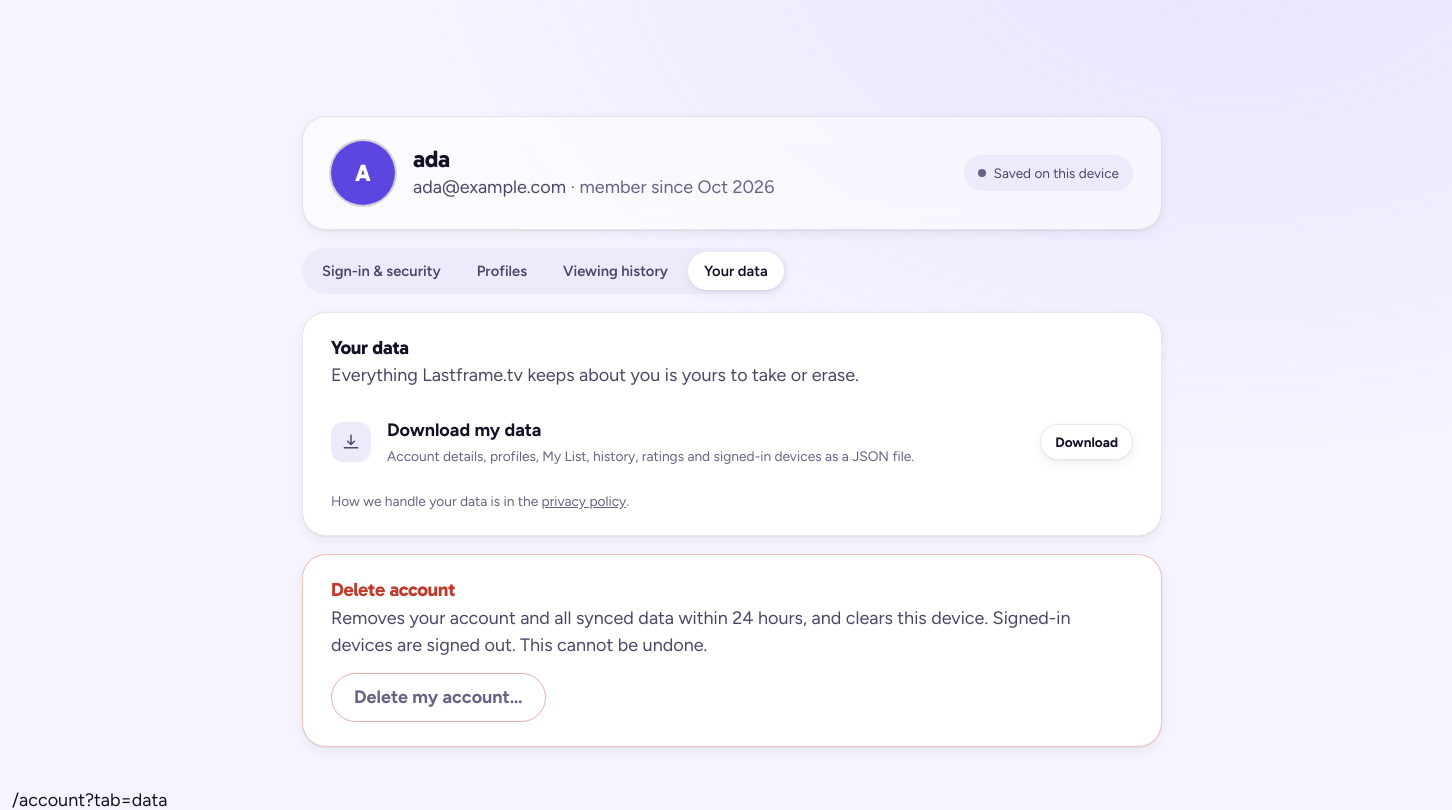
Test: AccountPage: signed in › deletes the account after confirmation
Click the button "Delete my account…" at (438, 697), box top-left (331, 673), bottom-right (546, 722)
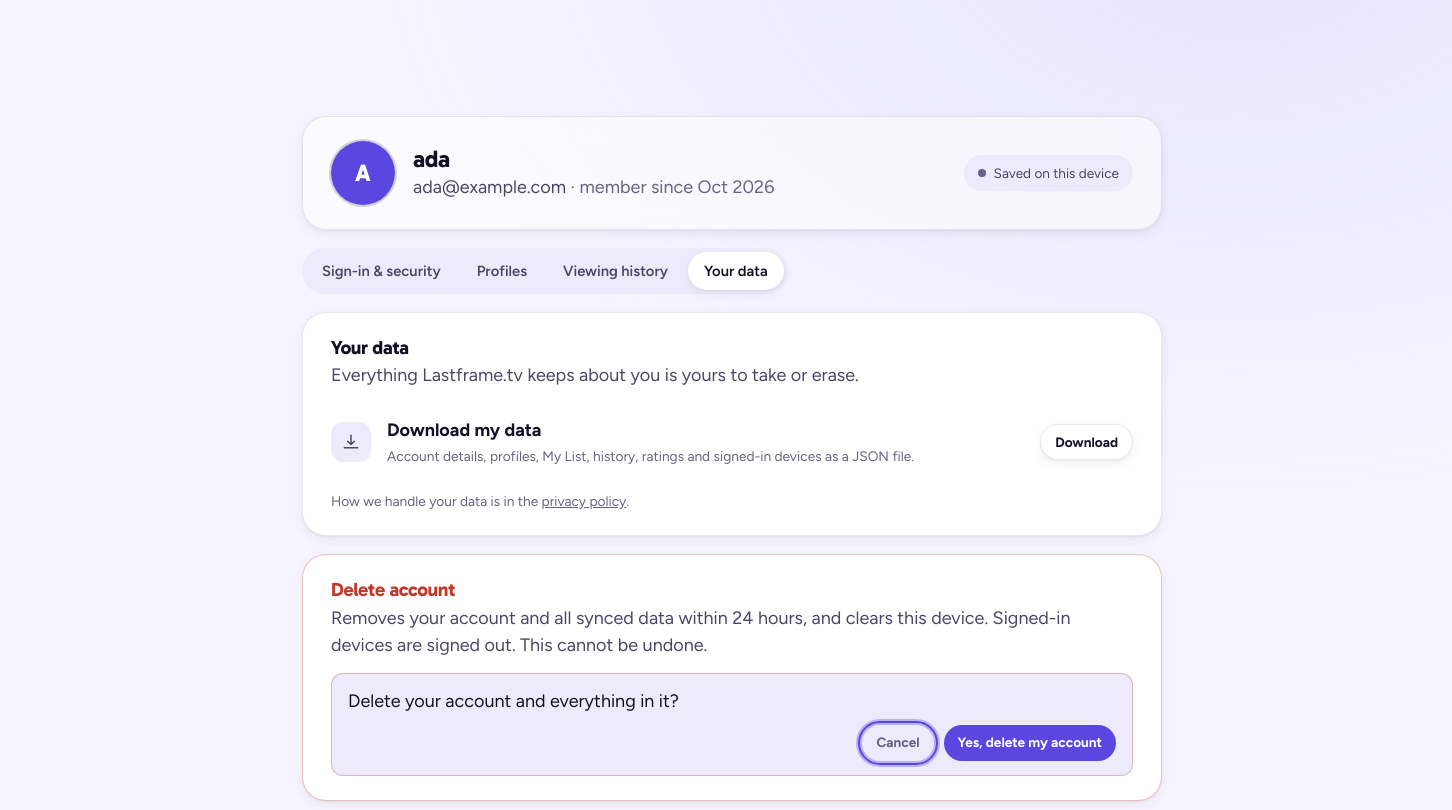
Expected: the heading "Delete account" is shown, top-left (331, 578), bottom-right (455, 602)
Expected: the text "within 24 hours" is shown, top-left (331, 607), bottom-right (1070, 656)
Click the button "Yes, delete my account" at (1030, 743), box top-left (944, 725), bottom-right (1116, 761)
(page scrolled)
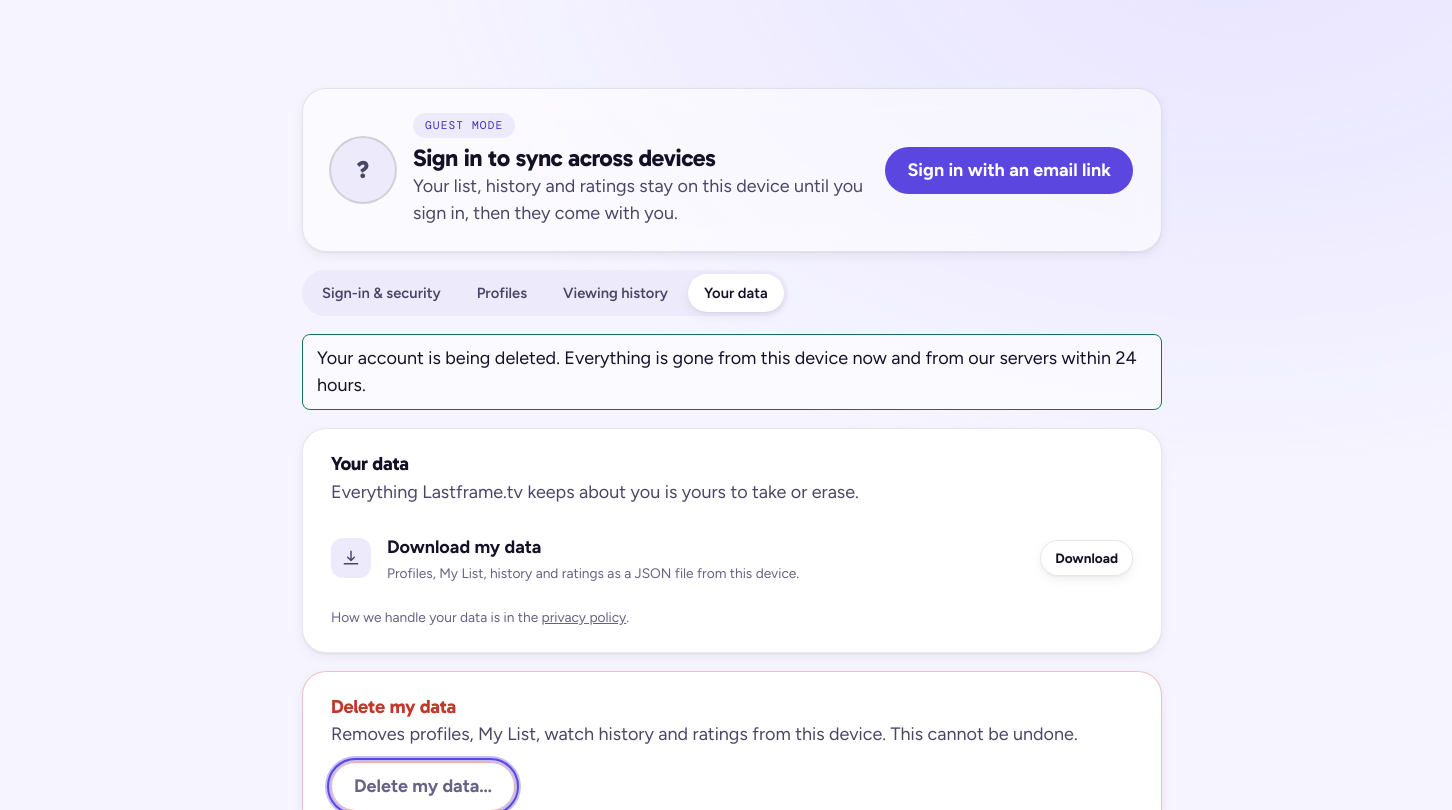
Expected: the text "Guest mode" is shown, top-left (413, 113), bottom-right (515, 138)
Expected: the message shows "within 24 hours", top-left (317, 348), bottom-right (1137, 396)
